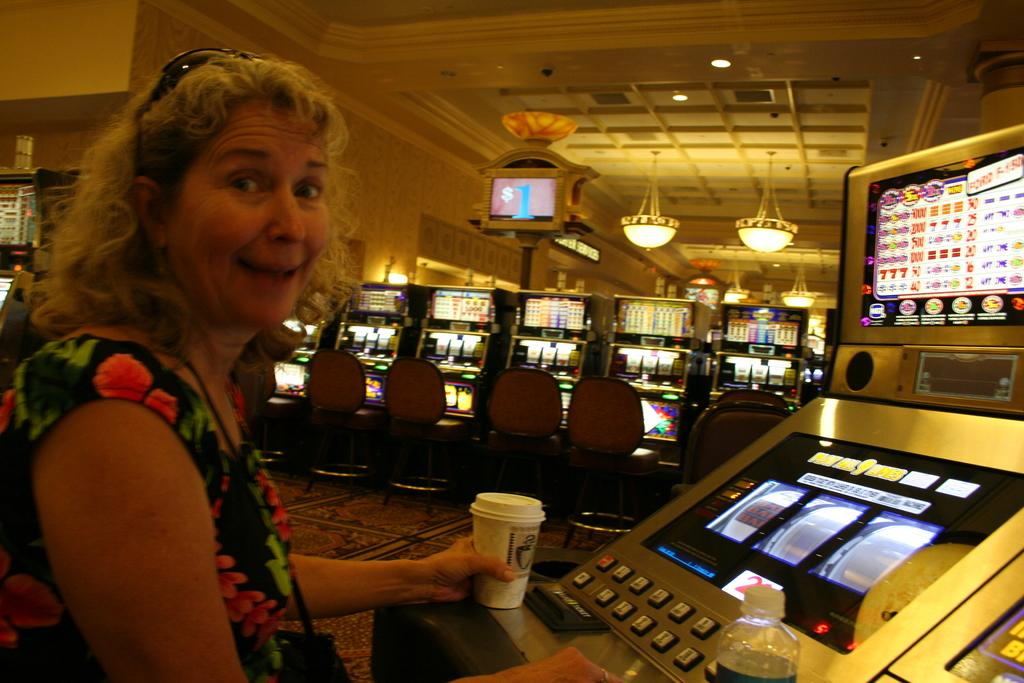Sem Máscara: (168, 102, 327, 326)
